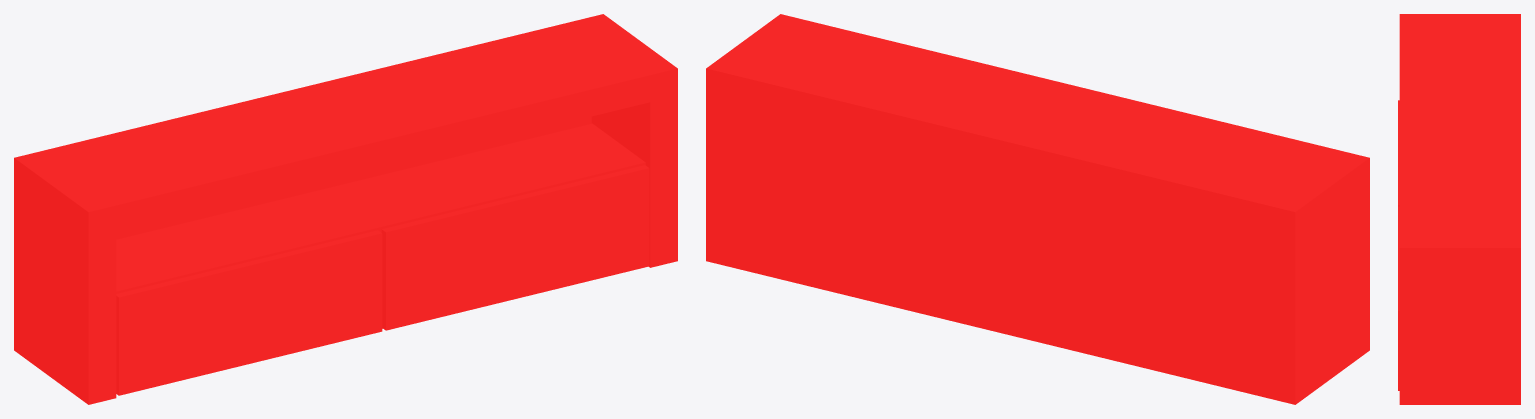
Rendered from TV Table.fbx.
3 renders of one model, left to right at view 1: azimuth 30°, elevation 25°; view 2: azimuth 150°, elevation 25°; view 3: azimuth 270°, elevation 25°, orthographic. The views are drawn at different scales.
Visible parts, largest first — view 1: TVTable; view 2: TVTable; view 3: TVTable.
Boxes of the visible parts, x1,y1,x2,y2 form: TVTable: (14, 14, 677, 404); TVTable: (706, 14, 1369, 404); TVTable: (1398, 14, 1520, 404).
Bounding box in the file's own units: 160 × 50 × 35.44.
